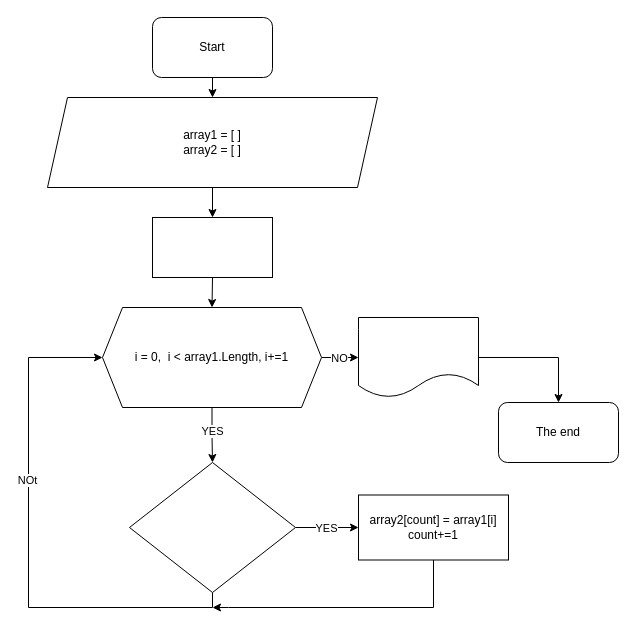
Some shapes in this 636 by 633 pixel diagram are drawn without their labels. Each missing label, with the centre of its shape:
"array1[i] <= 3" goes at point 212,527.
"int count = 0" goes at point 212,247.
"вывод массива array2" goes at point 418,357.
